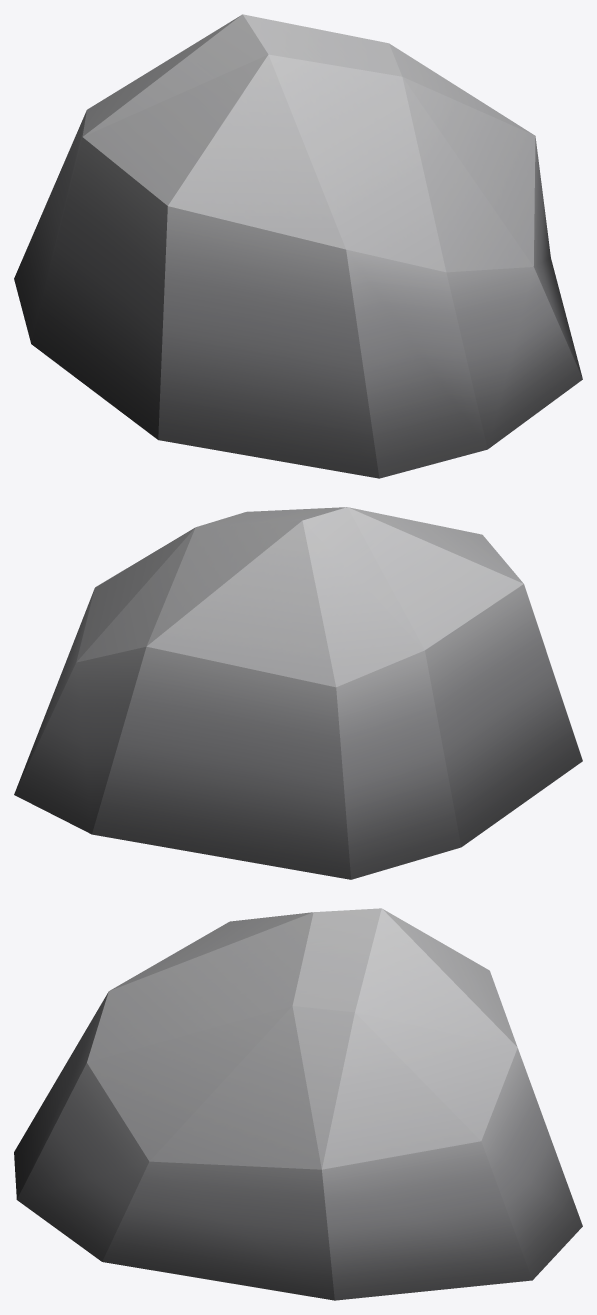
The model's file is RockMed-01.FBX.
3 views of the same model, one above another, from view 1: azimuth 30°, elevation 25°; view 2: azimuth 150°, elevation 25°; view 3: azimuth 270°, elevation 25° (orthographic). The views are drawn at different scales.
Parts seen in each view (by area): view 1: RockMed-01; view 2: RockMed-01; view 3: RockMed-01.
Part boxes in pixels (box(x1,y1,x2,y2)): RockMed-01: box(14, 14, 582, 478); RockMed-01: box(14, 507, 582, 879); RockMed-01: box(14, 908, 582, 1300).
Bounding box in the file's own units: 136 × 81.83 × 155.
1 material, 1 textured.
